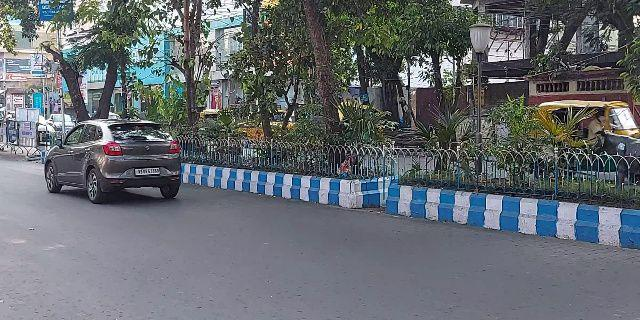Car: (38, 114, 186, 204)
